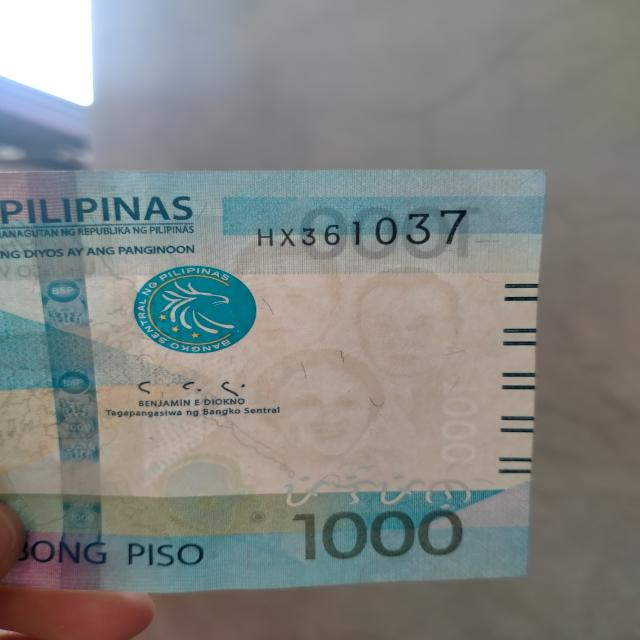security_thread: (30, 170, 105, 594)
see_through_mark: (267, 465, 480, 516)
value_watermark: (429, 373, 480, 472)
watermark: (217, 229, 458, 475)
